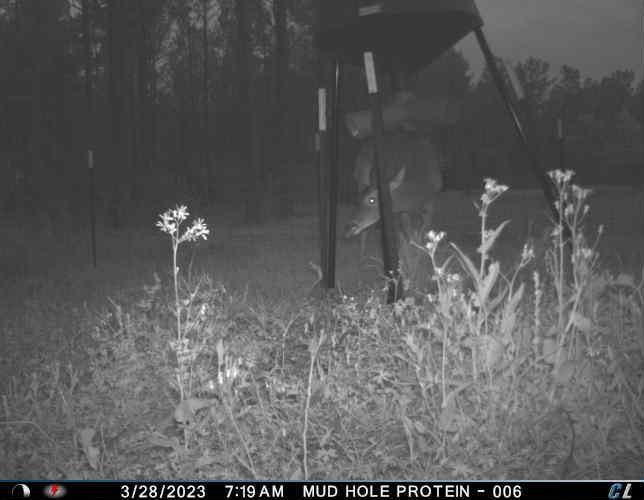Deer: (345, 131, 444, 290)
